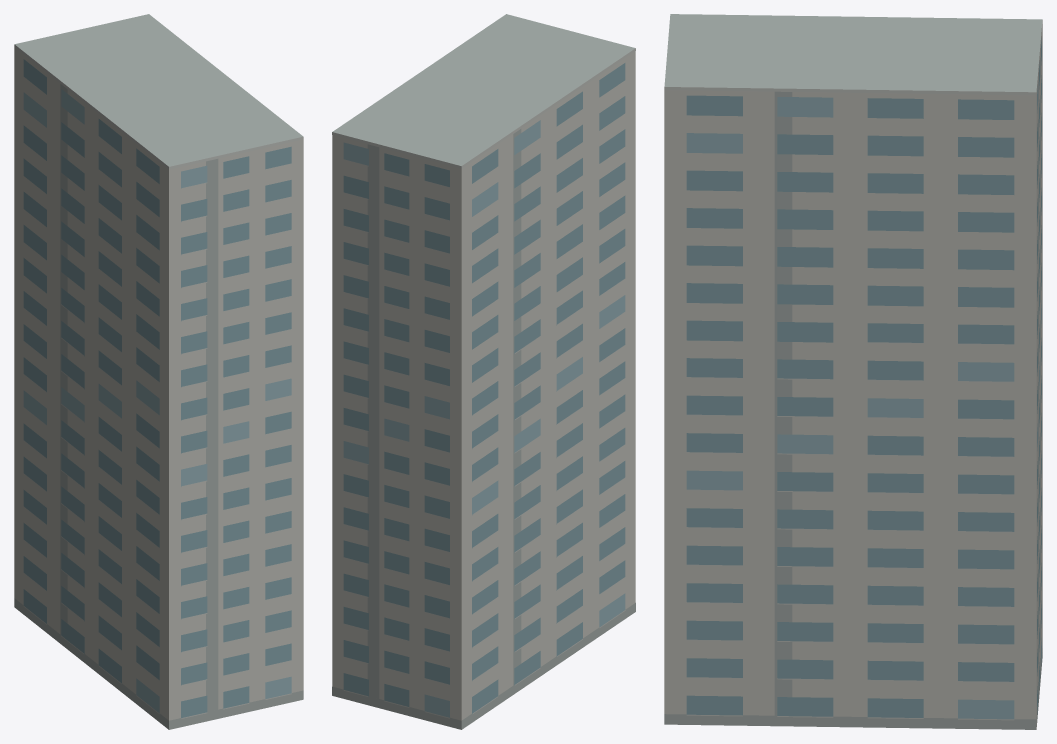
The model's file is residential-f501e809-77db-46cf-9caa-c11859856397.glb.
3 views of the same model, side by side, from view 1: azimuth 30°, elevation 25°; view 2: azimuth 150°, elevation 25°; view 3: azimuth 270°, elevation 25° (orthographic). The views are drawn at different scales.
Parts seen in each view (by area): view 1: residential-f501e809-77db-46cf-9caa-c11859856397.tmp; view 2: residential-f501e809-77db-46cf-9caa-c11859856397.tmp; view 3: residential-f501e809-77db-46cf-9caa-c11859856397.tmp.
Part boxes in pixels (box(x1,y1,x2,y2)): residential-f501e809-77db-46cf-9caa-c11859856397.tmp: box(14, 14, 303, 729); residential-f501e809-77db-46cf-9caa-c11859856397.tmp: box(332, 14, 635, 729); residential-f501e809-77db-46cf-9caa-c11859856397.tmp: box(664, 14, 1042, 729).
Bounding box in the file's own units: 12.64 × 48 × 25.8.
